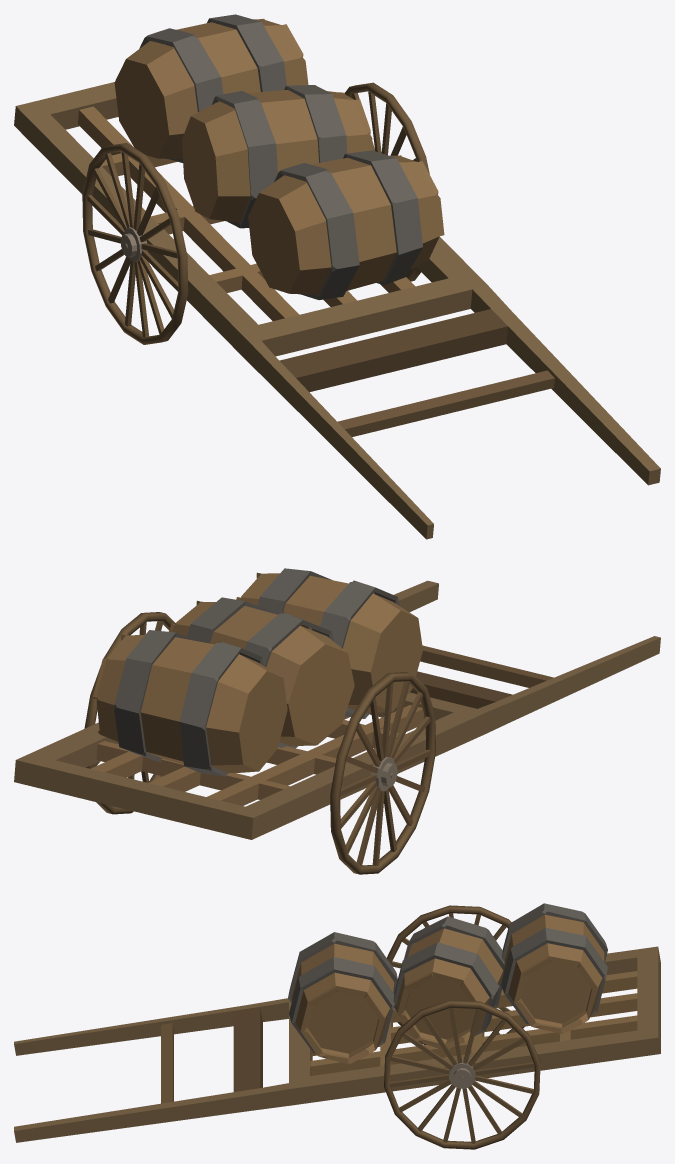
File: Wooden Cart_1.fbx
The picture shows the model from 3 angles, top to bottom: view 1: azimuth 30°, elevation 25°; view 2: azimuth 150°, elevation 25°; view 3: azimuth 270°, elevation 25°; orthographic projection. The views are drawn at different scales.
Visible parts, largest first — view 1: Wooden Cart_1; view 2: Wooden Cart_1; view 3: Wooden Cart_1.
Boxes of the visible parts, x1,y1,x2,y2 form: Wooden Cart_1: [14, 14, 660, 539]; Wooden Cart_1: [14, 568, 660, 874]; Wooden Cart_1: [14, 903, 660, 1149].
Bounding box in the file's own units: 176 × 149 × 470.
